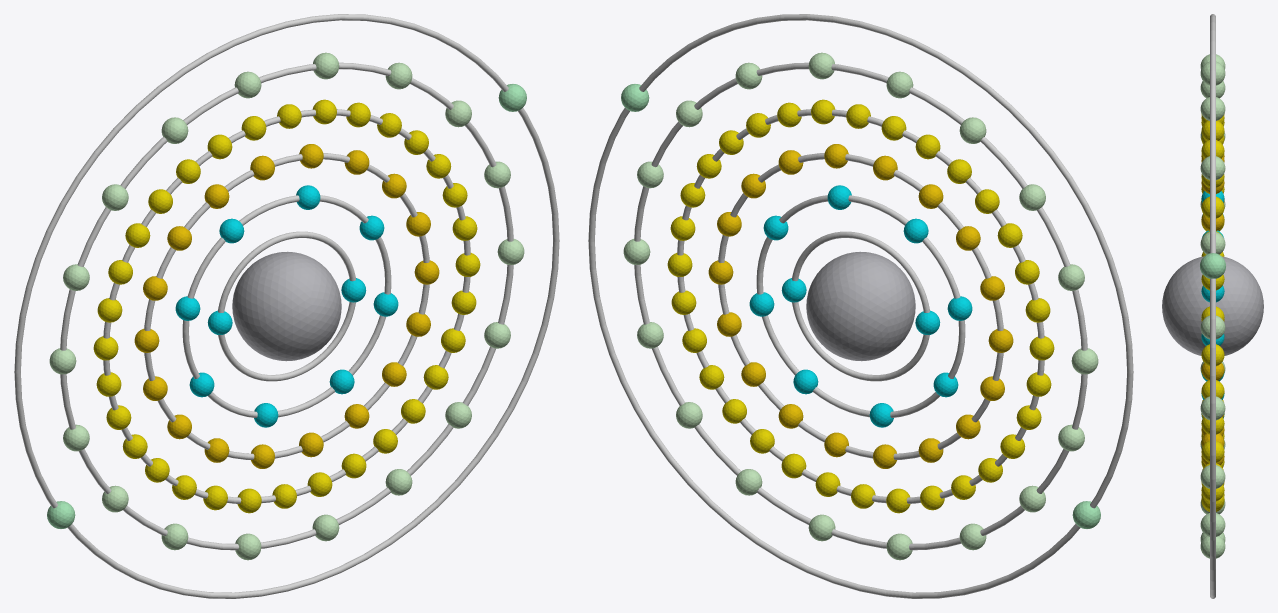
The picture shows the model from 3 angles, left to right: view 1: azimuth 30°, elevation 25°; view 2: azimuth 150°, elevation 25°; view 3: azimuth 270°, elevation 25°; orthographic projection. The views are drawn at different scales.
Parts seen in each view (by area): view 1: world; view 2: world; view 3: world.
Part boxes in pixels (x1,y1,x2,y2): world: (14, 14, 559, 598); world: (588, 14, 1133, 598); world: (1162, 14, 1263, 598).
Size of the model in its own units: 2.53 by 2.53 by 0.44.
